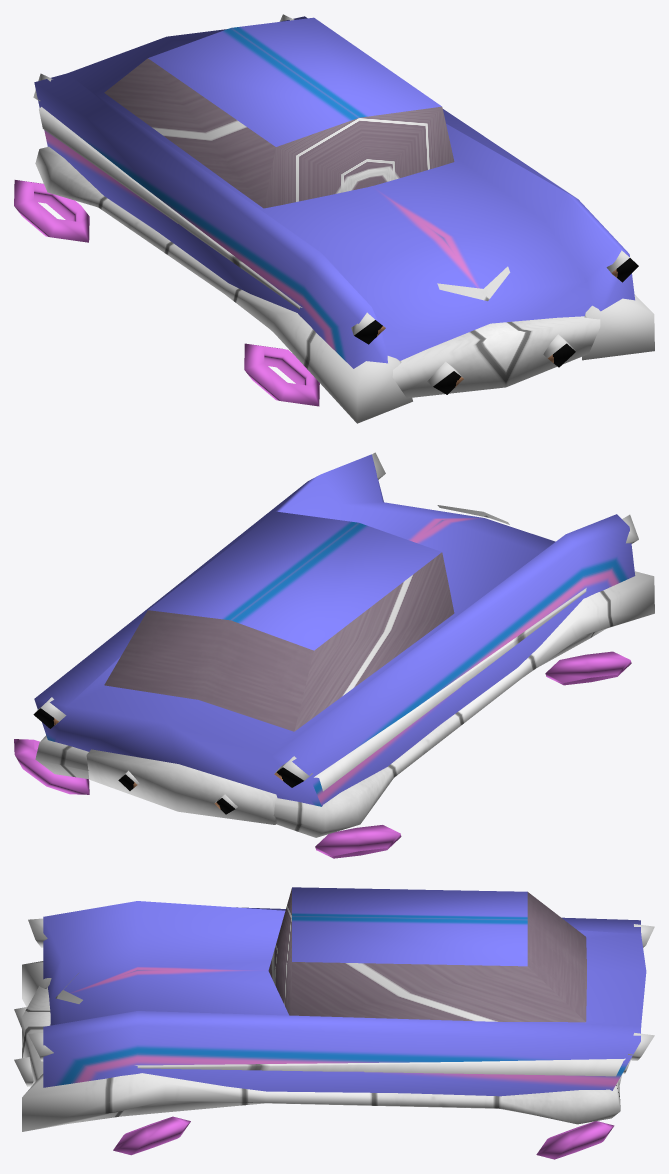
Rendered from SM_Car_01a.fbx.
The picture shows the model from 3 angles, top to bottom: view 1: azimuth 30°, elevation 25°; view 2: azimuth 150°, elevation 25°; view 3: azimuth 270°, elevation 25°; orthographic projection. The views are drawn at different scales.
Parts seen in each view (by area): view 1: SM_Car_01a; view 2: SM_Car_01a; view 3: SM_Car_01a.
Part boxes in pixels (box(x1,y1,x2,y2)): SM_Car_01a: box(14, 14, 654, 423); SM_Car_01a: box(14, 452, 654, 858); SM_Car_01a: box(14, 887, 654, 1159).
Bounding box in the file's own units: 761 × 1189 × 361.
